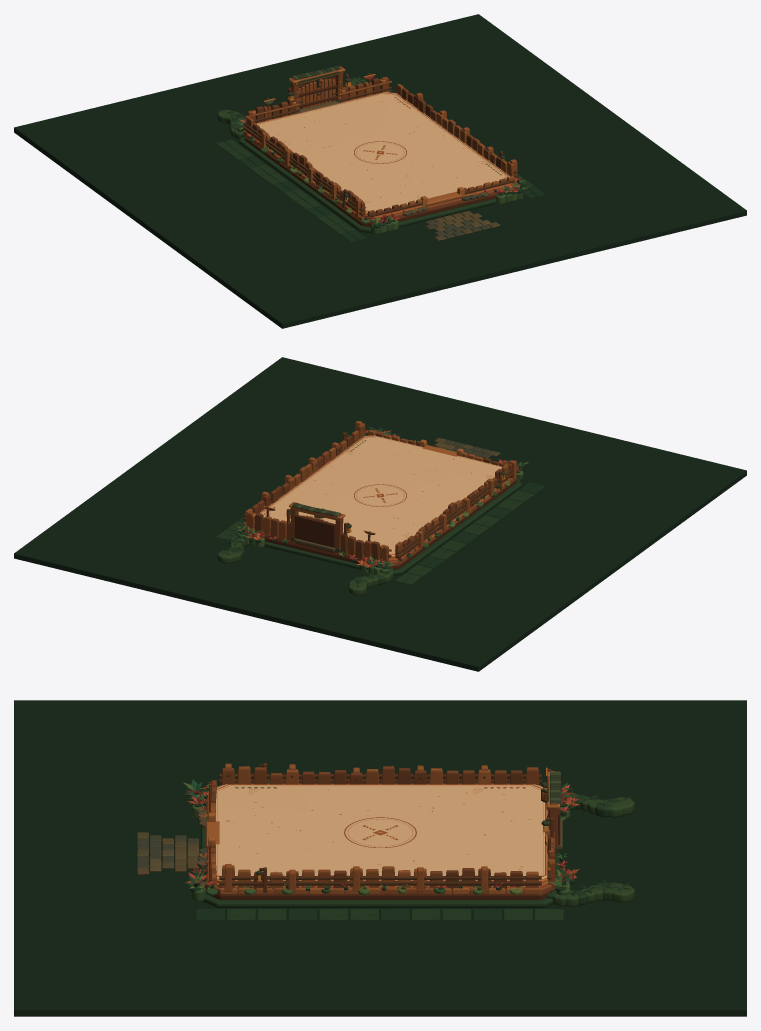
File: SlingArenaVoodooCourt.fbx
3 views of the same model, one above another, from view 1: azimuth 30°, elevation 25°; view 2: azimuth 150°, elevation 25°; view 3: azimuth 270°, elevation 25° (orthographic). The views are drawn at different scales.
Parts seen in each view (by area): view 1: 06 Background marsh, 02 Painted court, 04 Stockade and gate, 01 Court foundation, 05 Bayou surroundings, 03 Court and trim; view 2: 06 Background marsh, 02 Painted court, 04 Stockade and gate, 01 Court foundation, 05 Bayou surroundings, 03 Court and trim; view 3: 06 Background marsh, 02 Painted court, 04 Stockade and gate, 01 Court foundation, 05 Bayou surroundings, 03 Court and trim.
Part boxes in pixels (bbox=[...]): 06 Background marsh: bbox=[14, 14, 746, 328]; 02 Painted court: bbox=[254, 92, 509, 212]; 04 Stockade and gate: bbox=[243, 66, 517, 219]; 01 Court foundation: bbox=[239, 92, 516, 232]; 05 Bayou surroundings: bbox=[235, 87, 528, 234]; 03 Court and trim: bbox=[256, 92, 508, 211]; 06 Background marsh: bbox=[14, 357, 746, 671]; 02 Painted court: bbox=[260, 435, 501, 555]; 04 Stockade and gate: bbox=[243, 421, 517, 562]; 01 Court foundation: bbox=[239, 435, 521, 575]; 05 Bayou surroundings: bbox=[237, 426, 528, 575]; 03 Court and trim: bbox=[260, 435, 501, 554]; 06 Background marsh: bbox=[14, 700, 746, 1016]; 02 Painted court: bbox=[216, 784, 547, 880]; 04 Stockade and gate: bbox=[208, 763, 562, 892]; 01 Court foundation: bbox=[201, 783, 559, 907]; 05 Bayou surroundings: bbox=[183, 778, 579, 901]; 03 Court and trim: bbox=[215, 784, 546, 881].
Bounding box in the file's own units: 2500 × 284 × 2500.
